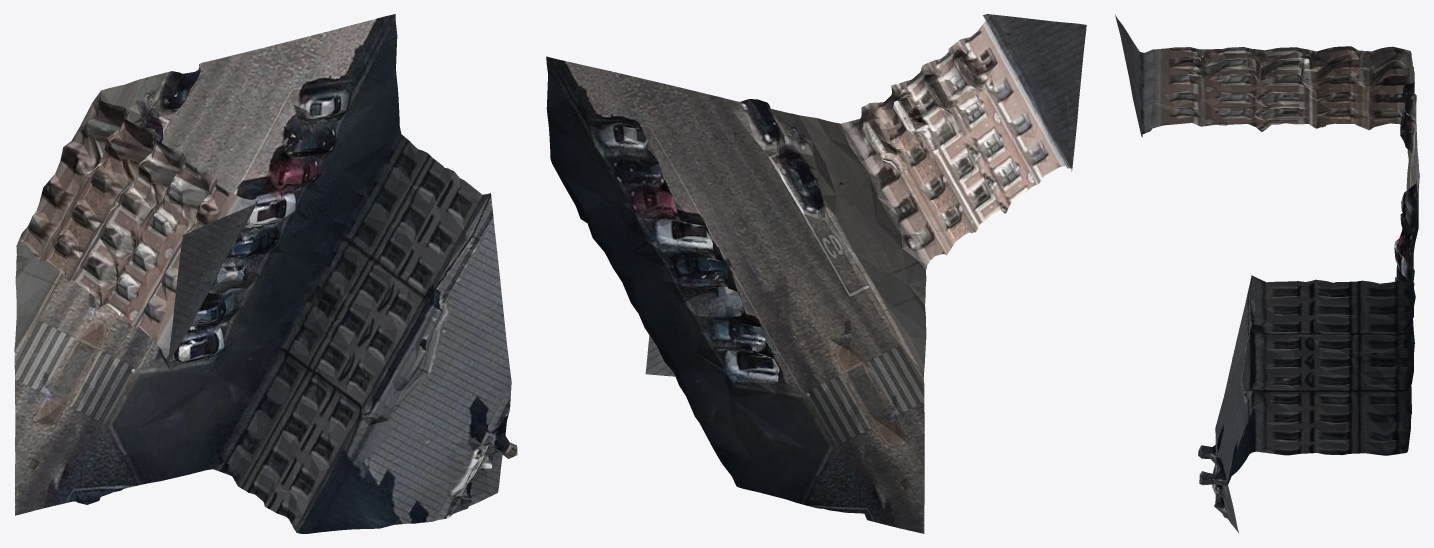
File: Tile_+038_+020_L20_0001300.obj
3 views of the same model, side by side, from view 1: azimuth 30°, elevation 25°; view 2: azimuth 150°, elevation 25°; view 3: azimuth 270°, elevation 25° (orthographic). The views are drawn at different scales.
Bounding box in the file's own units: 31.5 × 31.5 × 24.5.
1 material, 1 textured.
